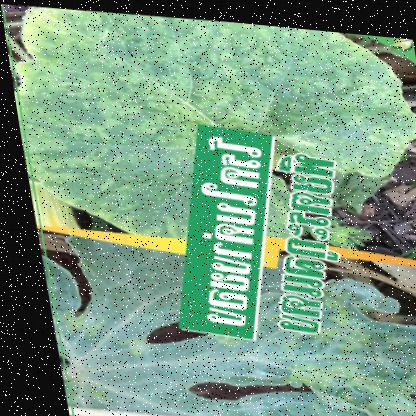CassavaMosaicDisease: (39, 23, 179, 230), (83, 6, 262, 128), (256, 22, 392, 156)
